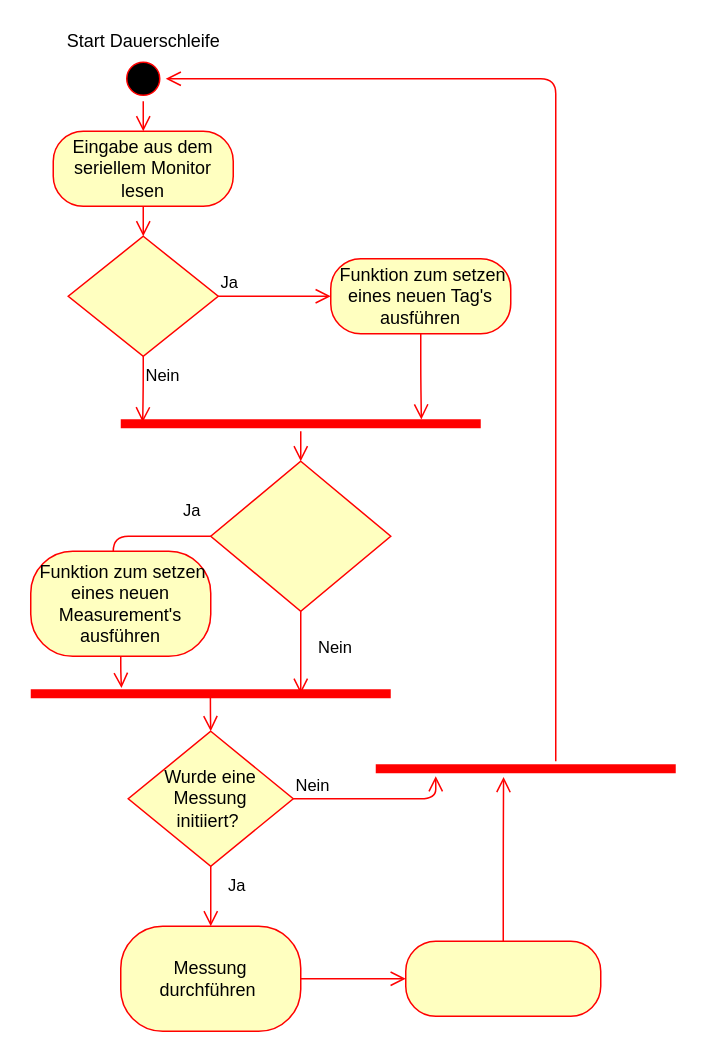
Some shapes in this 705 by 1058 pixel diagram are drawn without their labels. Here are the shapes that lost their labels. From the top down, the centre of each, then its label:
point (142, 295): Wurde "tag" eingegeben?
point (300, 535): Wurde "measurement" eingegeben?
point (502, 978): Gemessene Daten an die InfluxDB schicken
